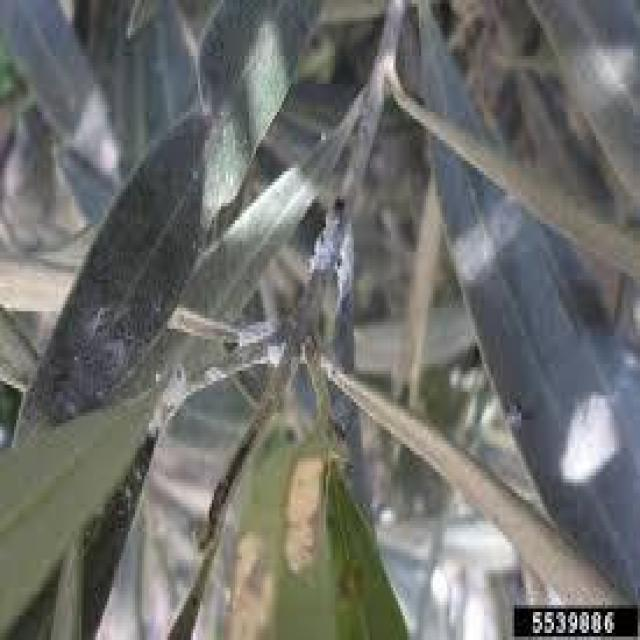Psyllid: (558, 398, 626, 486), (310, 196, 350, 318)
